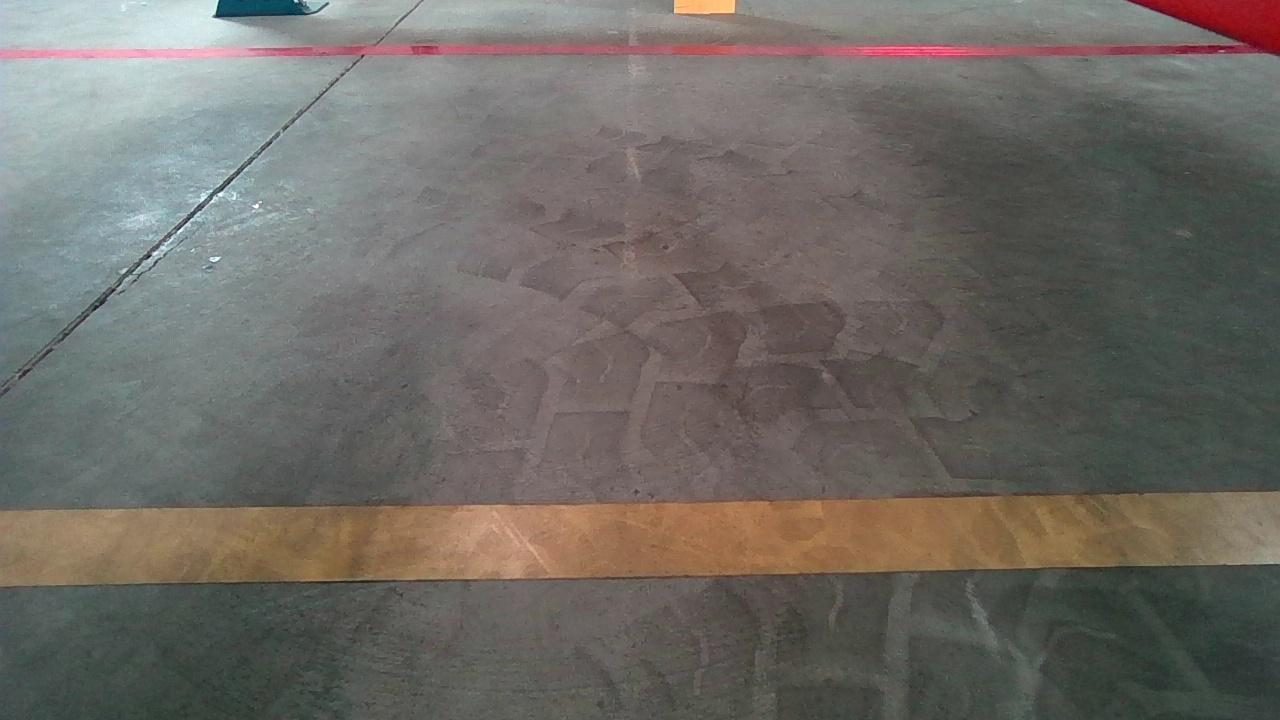red_line: (12, 33, 1252, 73)
yellow_line: (0, 488, 1275, 589)
